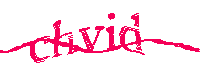c: (29, 33, 53, 64)
d: (119, 12, 146, 58)
h: (52, 13, 75, 58)
i: (106, 11, 118, 55)
v: (78, 23, 105, 54)
